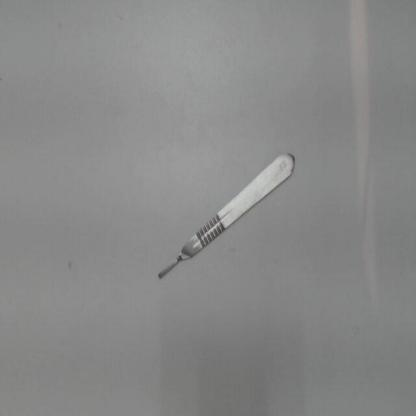No.3 BP Handle: (149, 142, 301, 290)
